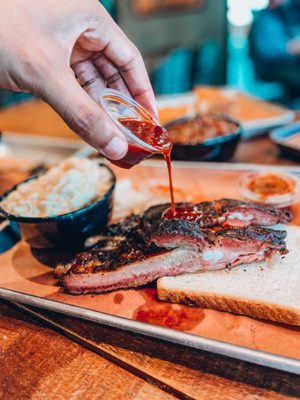salad: (101, 86, 188, 213)
soup: (53, 198, 297, 294)
sushi: (0, 155, 117, 264)
